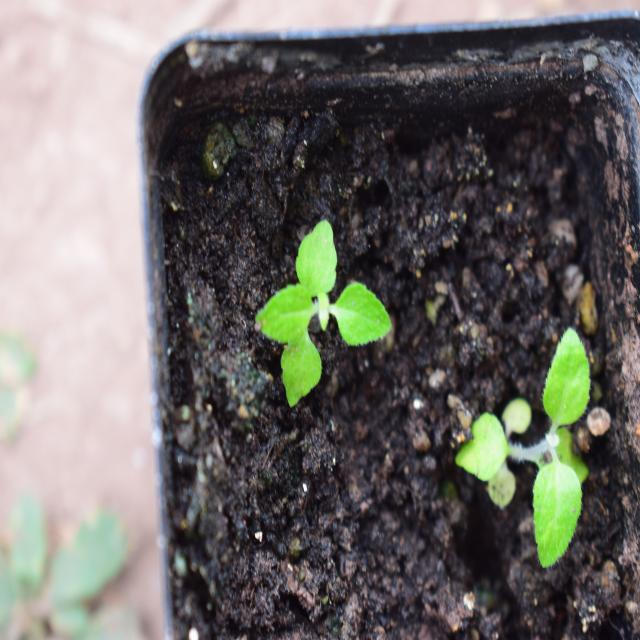billygoat_weed: (470, 314, 602, 574), (261, 215, 395, 435)
